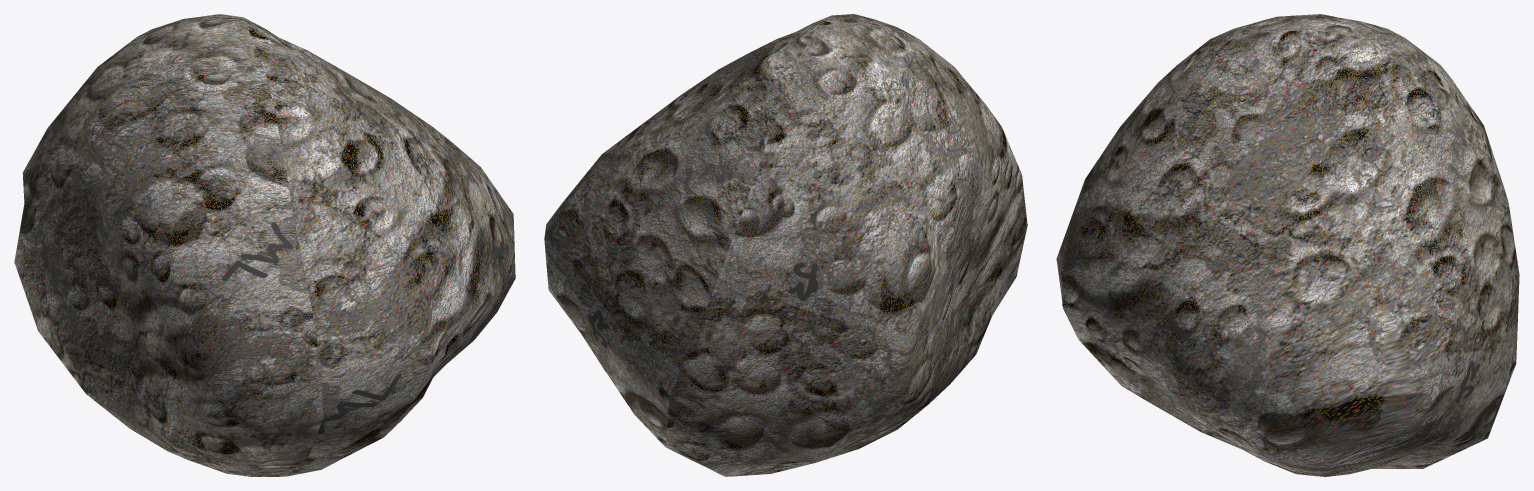
Rendered from Asteroid2.FBX.
3 views of the same model, side by side, from view 1: azimuth 30°, elevation 25°; view 2: azimuth 150°, elevation 25°; view 3: azimuth 270°, elevation 25° (orthographic). The views are drawn at different scales.
Visible parts, largest first — view 1: Sphere001; view 2: Sphere001; view 3: Sphere001.
Part boxes in pixels (x1,y1,x2,y2): Sphere001: [14, 14, 515, 476]; Sphere001: [544, 14, 1027, 476]; Sphere001: [1056, 14, 1519, 476].
Bounding box in the file's own units: 234 × 230 × 240.
Materials: 1 (1 with a texture image).
